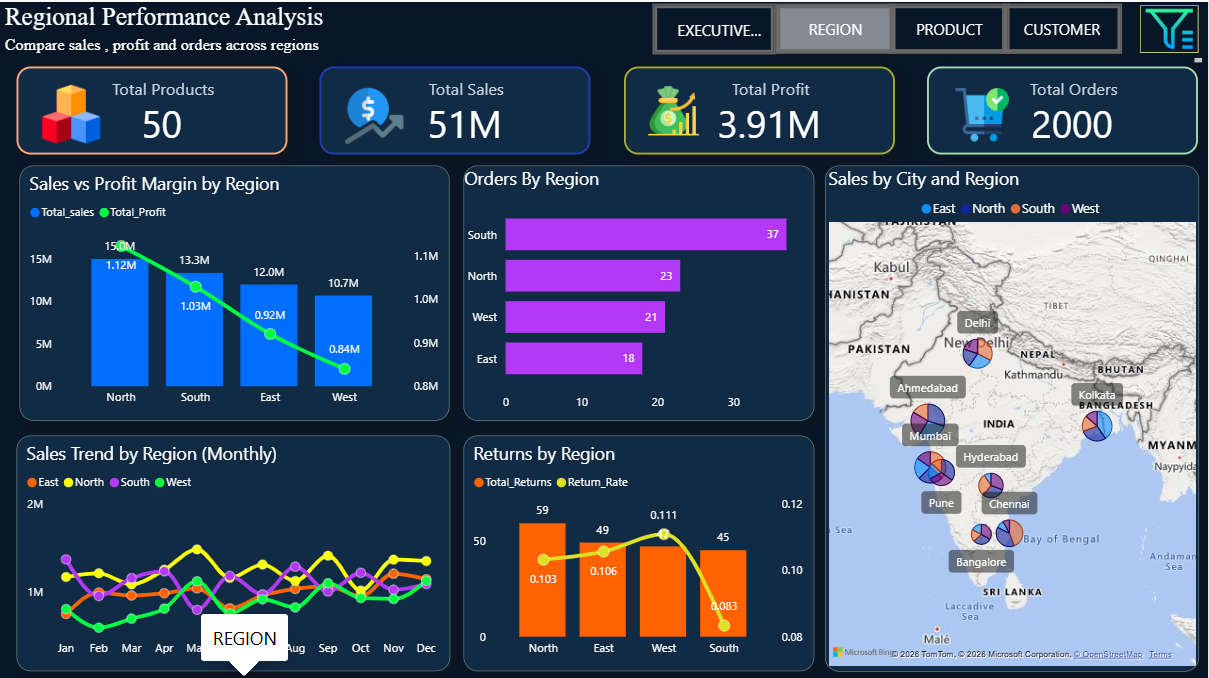

The page's visual inventory and layout, read from the dashboard file:
{"tool":"powerbi","page":{"name":"REGION","canvas":[1280,720],"ordinal":1},"visuals":[{"type":"textbox","title":"Regional Performance Analysis","box":[0,0,1279.4,68.9],"z":0},{"type":"actionButton","title":"REGION                     ","box":[822,1.6,127.4,53.4],"z":0,"group":"g5"},{"type":"card","title":"Total Profit","fields":{"Values":["Calculate Measure.Total_Profit"]},"box":[661.3,68.3,287.6,93.1],"z":0,"group":"g3"},{"type":"card","title":"Total Orders","fields":{"Values":["Calculate Measure.Total_Orders"]},"box":[983.3,68.3,287.6,93.1],"z":0,"group":"g4"},{"type":"card","title":"Total Products","fields":{"Values":["Calculate Measure.Total_Products"]},"box":[17.2,68.9,287.6,93.1],"z":0,"group":"g2"},{"type":"card","title":"Total Sales","fields":{"Values":["Calculate Measure.Total_sales"]},"box":[339.3,68.9,287.6,93.1],"z":0,"group":"g1"},{"type":"actionButton","title":"REGION                     ","box":[691.9,1.6,130.4,54.1],"z":1000,"group":"g5"},{"type":"image","box":[684.5,77.4,56.8,74],"z":1000,"group":"g3"},{"type":"image","box":[1013.7,85.9,56.8,67.2],"z":1000,"group":"g4"},{"type":"image","box":[366.8,86.5,62,67.2],"z":1000,"group":"g1"},{"type":"image","box":[44.5,86.6,62,65.4],"z":1000,"group":"g2"},{"type":"lineClusteredColumnComboChart","title":"Sales vs Profit Margin by Region","fields":{"Category":["regions.Region"],"Y":["Calculate Measure.Total_sales"],"Y2":["Calculate Measure.Total_Profit"]},"box":[20.7,173.9,456.3,270.4],"z":1000},{"type":"actionButton","title":"REGION                     ","box":[942.5,1.6,127.4,53.4],"z":2000,"group":"g5"},{"type":"lineChart","title":"Sales Trend by Region (Monthly)","fields":{"Category":["date_table.Month_Short"],"Series":["customers.Region"],"Y":["Calculate Measure.Total_sales"]},"box":[17.2,459.8,459.8,249.7],"z":2000},{"type":"actionButton","title":"REGION                     ","box":[1063.1,1.6,127.4,53.4],"z":3000,"group":"g5"},{"type":"lineClusteredColumnComboChart","title":"Returns by Region","fields":{"Category":["regions.Region"],"Y":["Calculate Measure.Total_Returns"],"Y2":["Calculate Measure.Return_Rate"]},"box":[490.8,459.8,371.9,249.7],"z":3000},{"type":"clusteredBarChart","title":"Orders By Region","fields":{"Category":["regions.Region"],"Y":["Calculate Measure.Total_Orders"]},"box":[490.8,173.9,371.9,270.4],"z":4000},{"type":"map","title":"Sales by City and Region","fields":{"Category":["customers.City"],"Series":["regions.Region"],"Size":["Calculate Measure.Total_sales"]},"box":[875,173.3,396.7,536.7],"z":5000},{"type":"group","id":"g1","title":"Group 3","box":[339.3,68.9,287.6,93],"z":6000},{"type":"group","id":"g2","title":"Group 1","box":[17.2,68.9,287.6,93],"z":7000},{"type":"group","id":"g3","title":"Group 2","box":[661.3,68.3,287.6,93.1],"z":8000},{"type":"group","id":"g4","title":"Group 4","box":[983.3,68.3,286.7,93.3],"z":9000},{"type":"group","id":"g5","title":"Group 5","box":[691.9,1.6,497.9,54.1],"z":10000},{"type":"image","box":[1208.9,3.2,62,50.9],"z":11000}]}

Visuals, with their boxes in screenshot pixels (x1, y1, x2, y2), scaled from the page's 1280x720 canvas onto the 1209x678 screenshot:
"Regional Performance Analysis" textbox: x1=0, y1=0, x2=1208, y2=65
"REGION                     " actionButton: x1=776, y1=2, x2=897, y2=52
"Total Profit" card: x1=625, y1=64, x2=896, y2=152
"Total Orders" card: x1=929, y1=64, x2=1200, y2=152
"Total Products" card: x1=16, y1=65, x2=288, y2=153
"Total Sales" card: x1=320, y1=65, x2=592, y2=153
"REGION                     " actionButton: x1=654, y1=2, x2=777, y2=52
image: x1=647, y1=73, x2=700, y2=143
image: x1=957, y1=81, x2=1011, y2=144
image: x1=346, y1=81, x2=405, y2=145
image: x1=42, y1=82, x2=101, y2=143
"Sales vs Profit Margin by Region" lineClusteredColumnComboChart: x1=20, y1=164, x2=451, y2=418
"REGION                     " actionButton: x1=890, y1=2, x2=1011, y2=52
"Sales Trend by Region (Monthly)" lineChart: x1=16, y1=433, x2=451, y2=668
"REGION                     " actionButton: x1=1004, y1=2, x2=1124, y2=52
"Returns by Region" lineClusteredColumnComboChart: x1=464, y1=433, x2=815, y2=668
"Orders By Region" clusteredBarChart: x1=464, y1=164, x2=815, y2=418
"Sales by City and Region" map: x1=826, y1=163, x2=1201, y2=669
"Group 3" group: x1=320, y1=65, x2=592, y2=152
"Group 1" group: x1=16, y1=65, x2=288, y2=152
"Group 2" group: x1=625, y1=64, x2=896, y2=152
"Group 4" group: x1=929, y1=64, x2=1200, y2=152
"Group 5" group: x1=654, y1=2, x2=1124, y2=52
image: x1=1142, y1=3, x2=1200, y2=51
